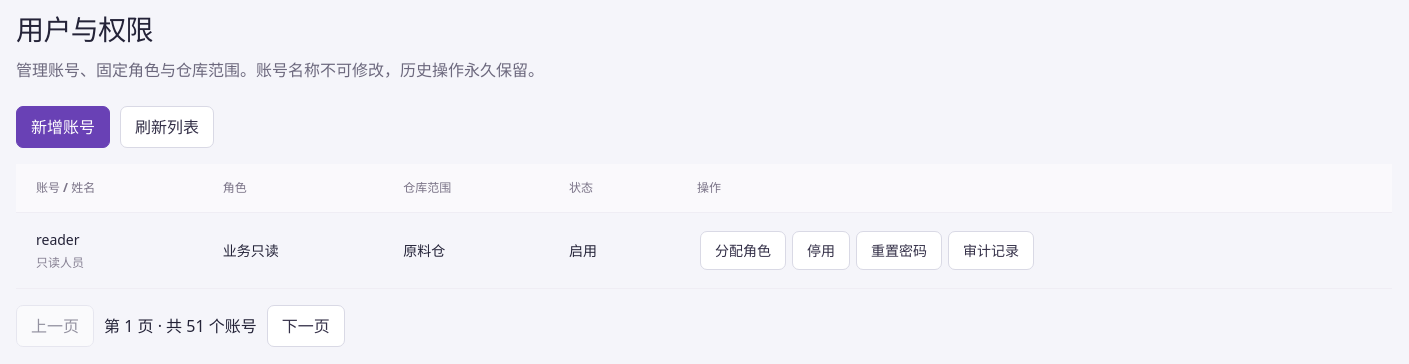
Scenario: clears stale rows when paginating fails in users
Click the button "下一页".
click(306, 326)  # box [267,305,345,347]
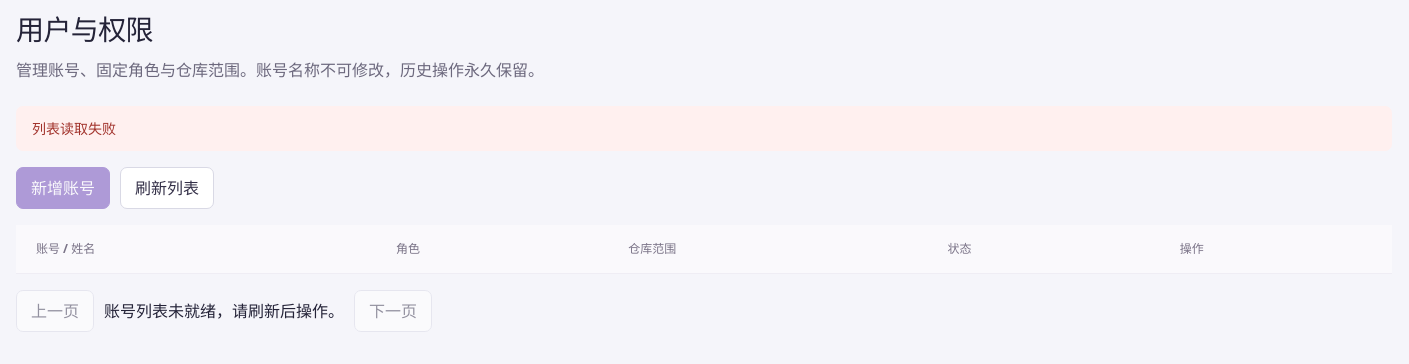
Expected: the text "列表读取失败" is shown, [16,106,1392,151]
Expected: the text "只读人员" is gone
Expected: the button "下一页" is disabled, [354,290,432,332]
